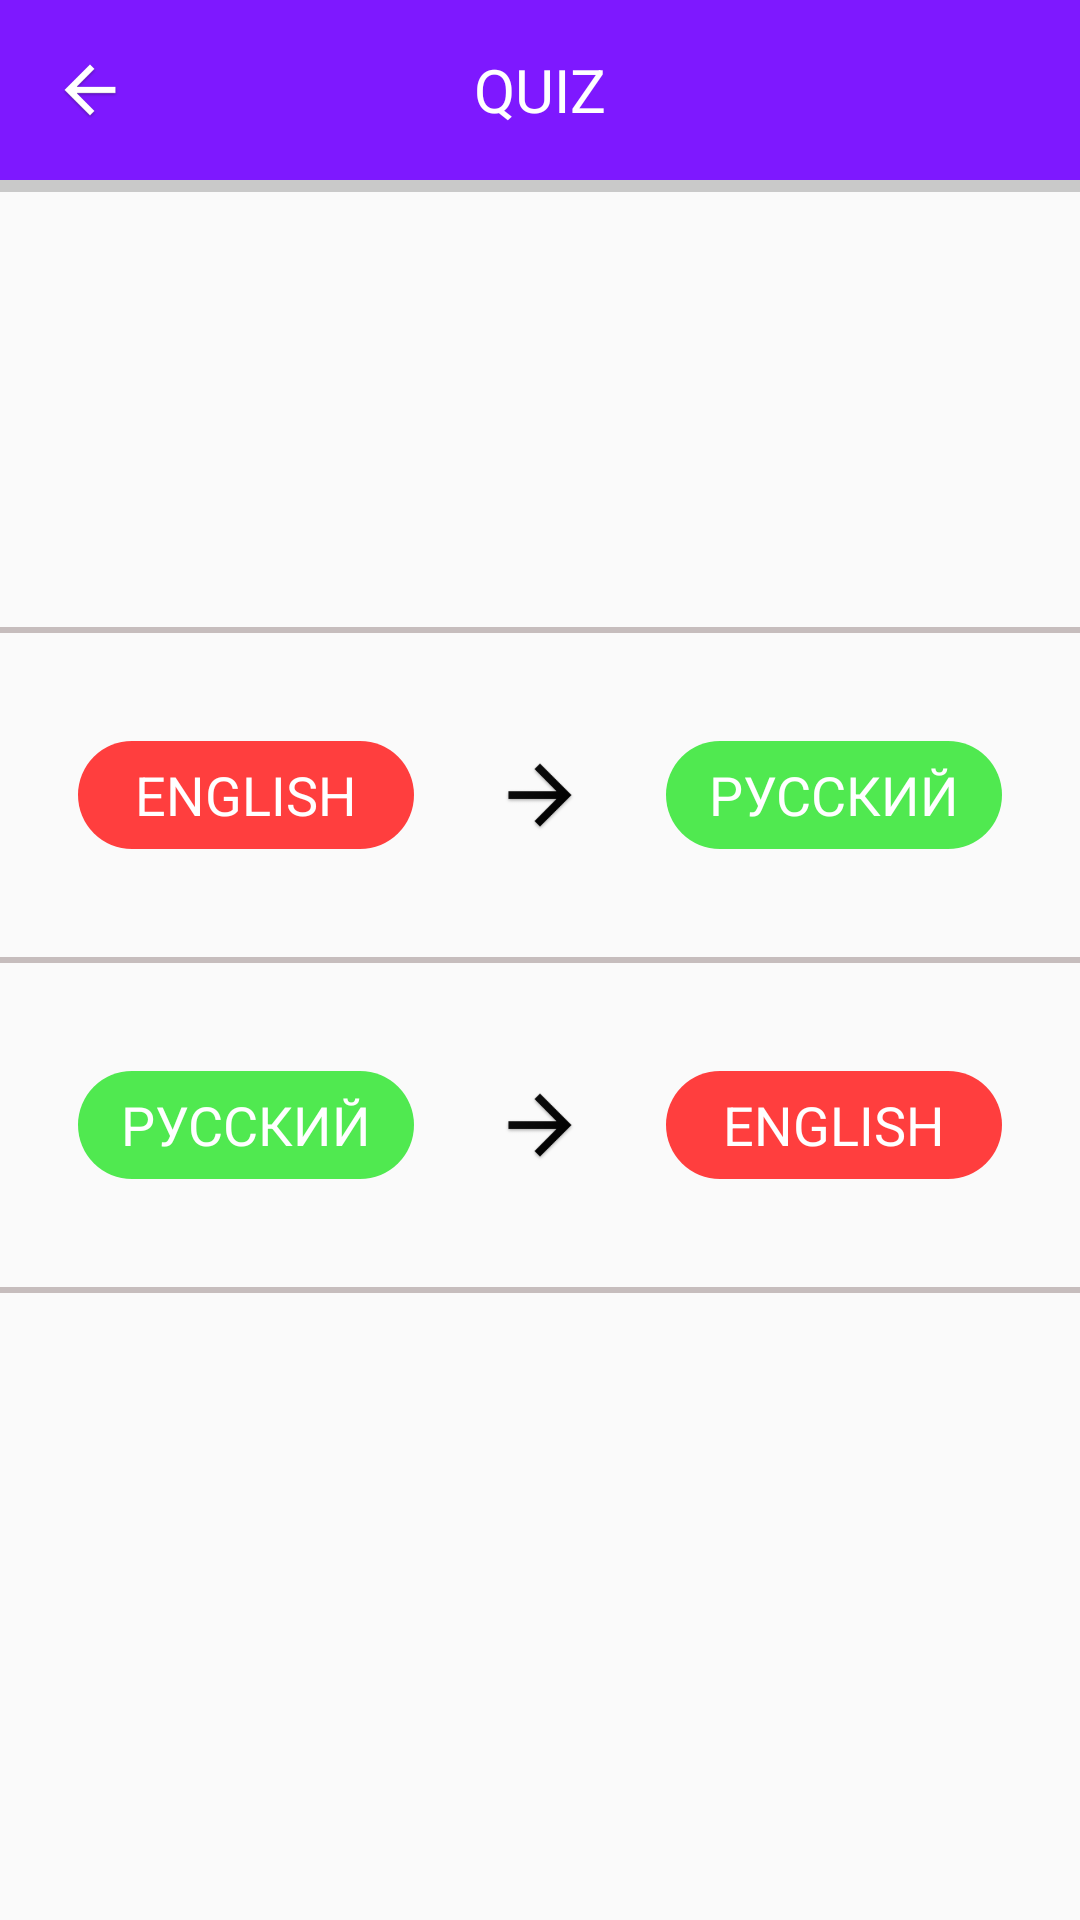

Named icons in this screenshot (1080×1920) and their centers, (x,y):
Arrow: (540,795), (540,1125)
back: (90,90)
